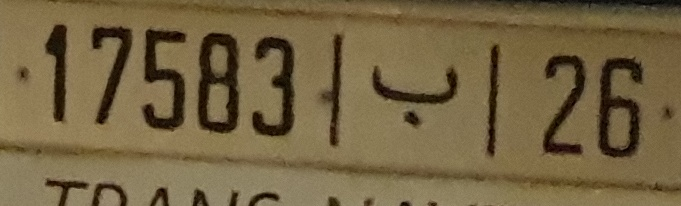1: (40, 21, 75, 126)
2: (540, 51, 587, 157)
3: (247, 34, 296, 138)
5: (141, 25, 187, 132)
6: (597, 54, 646, 160)
7: (89, 23, 133, 127)
8: (197, 30, 243, 135)
b: (369, 58, 462, 130)
